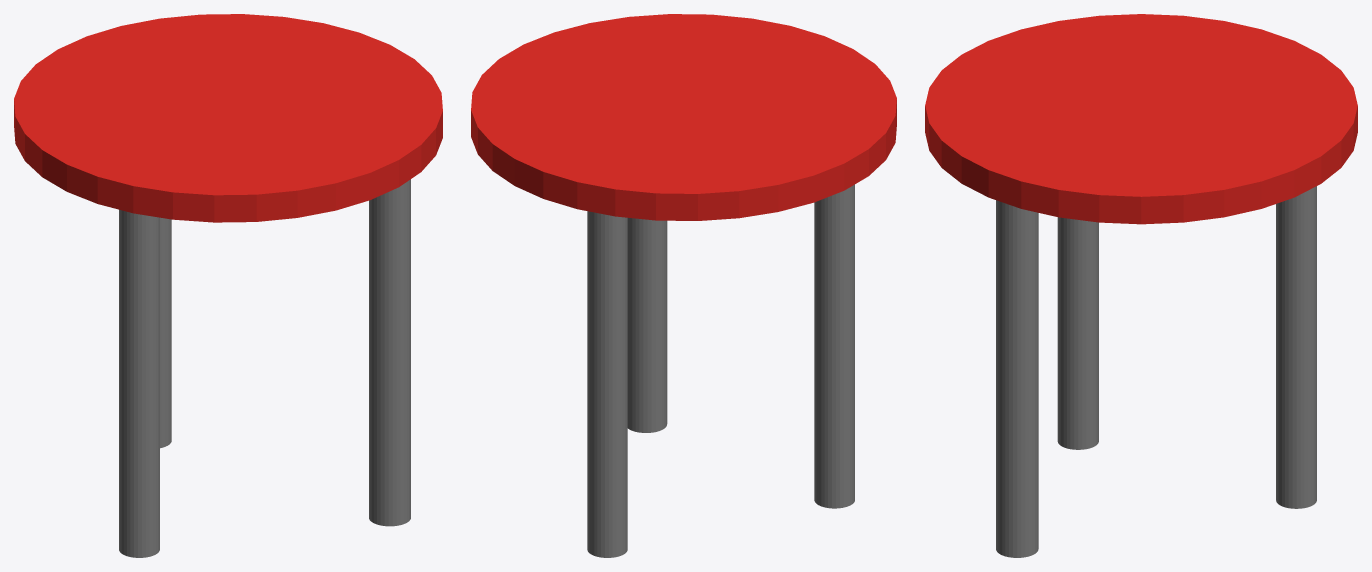
Rendered from silla.fbx.
3 views of the same model, side by side, from view 1: azimuth 30°, elevation 25°; view 2: azimuth 150°, elevation 25°; view 3: azimuth 270°, elevation 25° (orthographic).
Visible parts, largest first — view 1: Cilindro; view 2: Cilindro; view 3: Cilindro.
Boxes of the visible parts, box(x1,y1,x2,y2) form: Cilindro: box(14, 14, 442, 557); Cilindro: box(471, 14, 896, 557); Cilindro: box(925, 14, 1357, 557).
Size of the model in its own units: 48.33 by 48.67 by 48.33.
